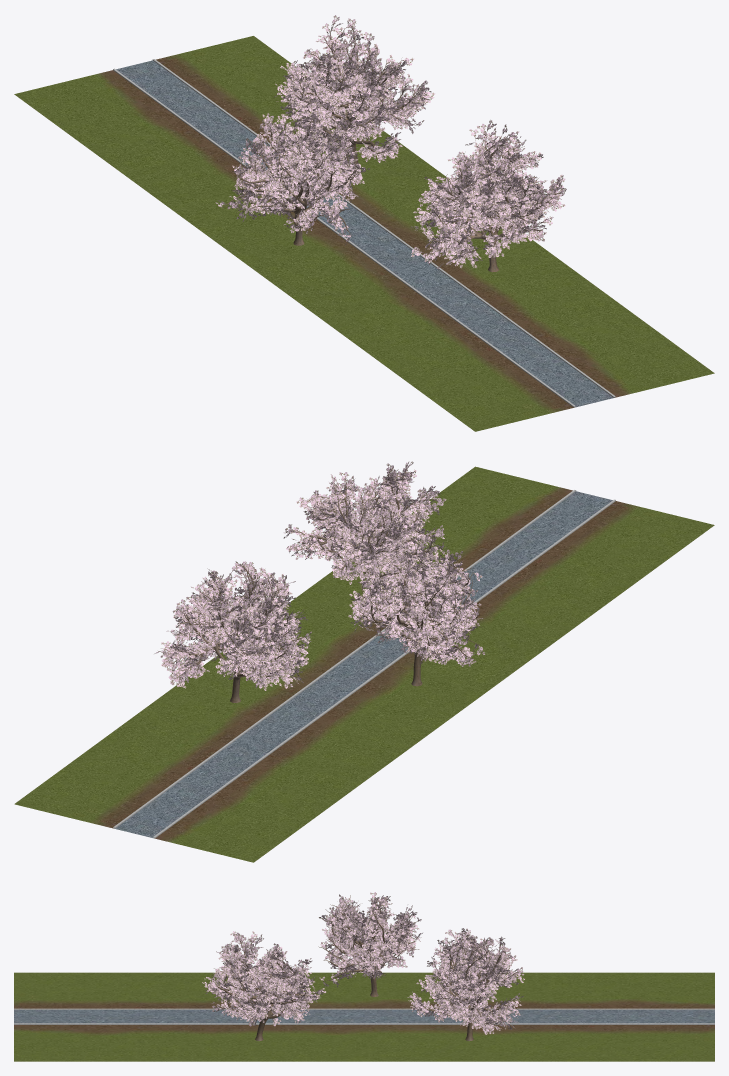
The model's file is optimized_school_park.glb.
3 views of the same model, one above another, from view 1: azimuth 30°, elevation 25°; view 2: azimuth 150°, elevation 25°; view 3: azimuth 270°, elevation 25° (orthographic). The views are drawn at different scales.
Parts seen in each view (by area): view 1: Object_6, Object_11, Object_4, Object_10, Object_8; view 2: Object_6, Object_11, Object_4, Object_10, Object_8; view 3: Object_6, Object_11, Object_4, Object_10, Object_8.
Part boxes in pixels (x1,y1,x2,y2): Object_6: [14, 36, 714, 431]; Object_11: [215, 15, 566, 268]; Object_4: [116, 60, 614, 407]; Object_10: [222, 25, 565, 272]; Object_8: [113, 59, 615, 407]; Object_6: [14, 466, 714, 862]; Object_11: [154, 461, 485, 690]; Object_4: [114, 491, 612, 838]; Object_10: [158, 468, 481, 702]; Object_8: [113, 490, 615, 838]; Object_6: [14, 972, 714, 1061]; Object_11: [202, 892, 524, 1034]; Object_4: [14, 1010, 714, 1023]; Object_10: [208, 895, 516, 1041]; Object_8: [14, 1008, 714, 1024].
Size of the model in its own units: 26.19 by 13.26 by 80.
Materials: 5 (5 with a texture image).
